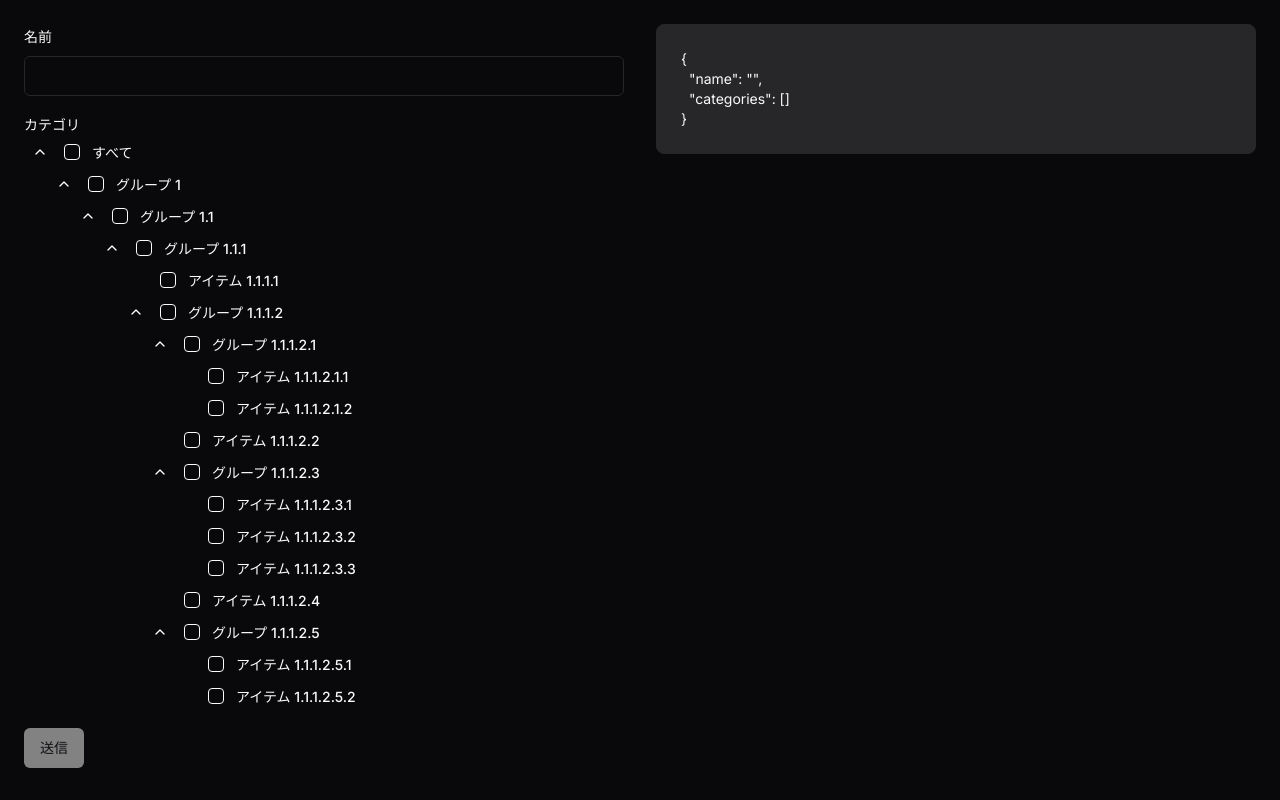
Test: ExampleForm › 送信ボタン › 正常な値の時有効になる
Type "test" into the field labelled "名前". click: x=324, y=76
box: [24,56,624,96]
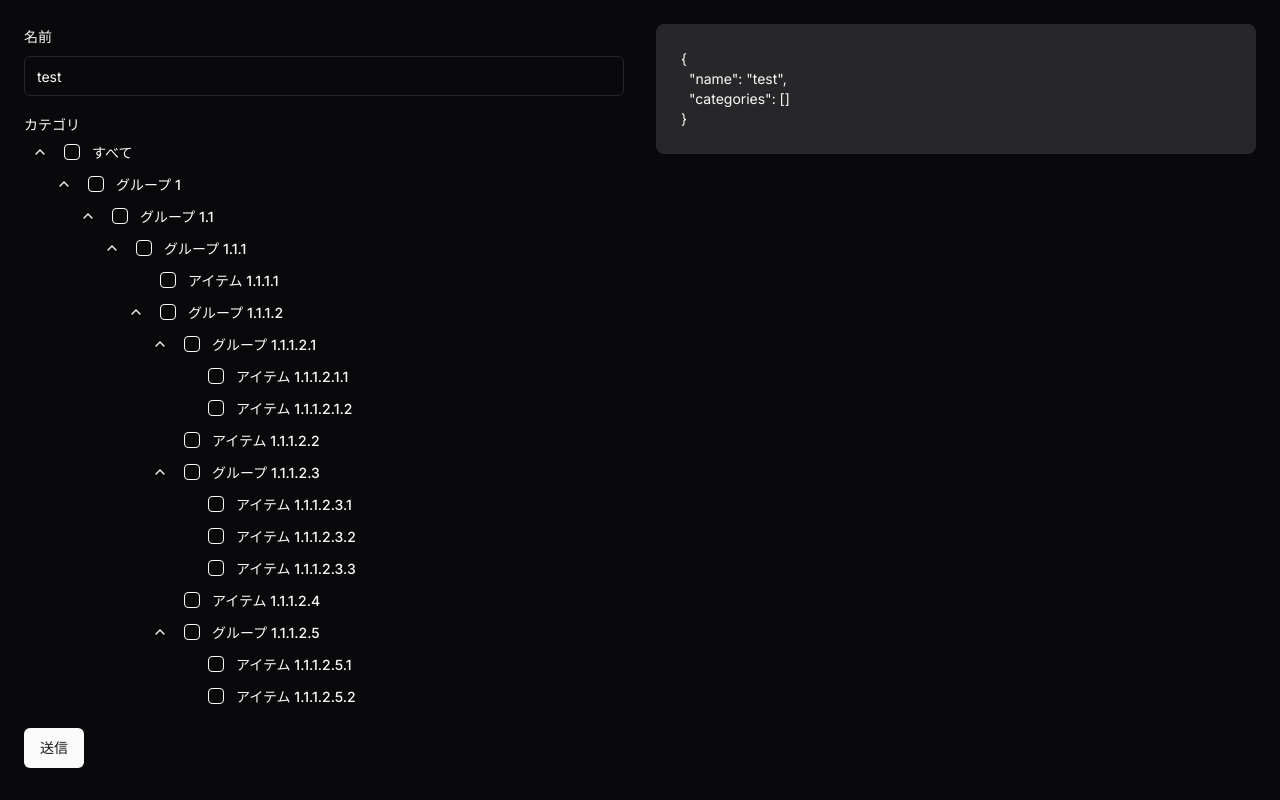
Check: the button "送信" is enabled, box [24,728,84,768]
